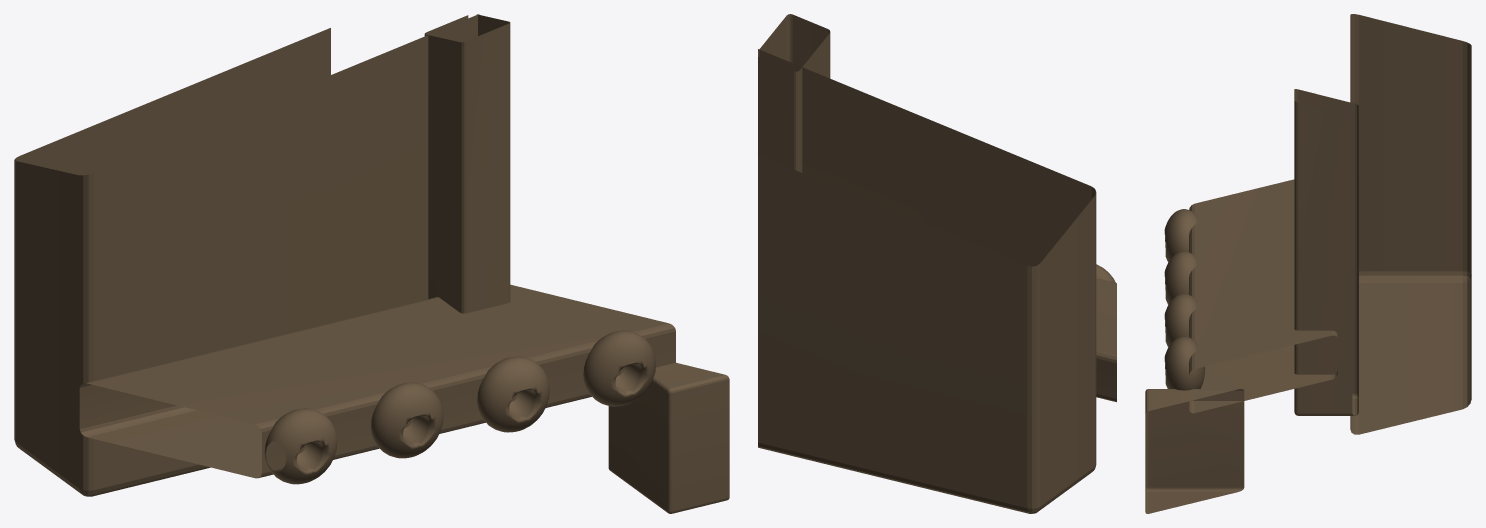
Rendered from temple05.glb.
The picture shows the model from 3 angles, left to right: view 1: azimuth 30°, elevation 25°; view 2: azimuth 150°, elevation 25°; view 3: azimuth 270°, elevation 25°; orthographic projection. The views are drawn at different scales.
Visible parts, largest first — view 1: TEMPLE05_original_v5; view 2: TEMPLE05_original_v5; view 3: TEMPLE05_original_v5.
Boxes of the visible parts, bbox=[...] form: TEMPLE05_original_v5: bbox=[14, 14, 729, 513]; TEMPLE05_original_v5: bbox=[758, 14, 1116, 513]; TEMPLE05_original_v5: bbox=[1145, 14, 1471, 513].
Size of the model in its own units: 3.1 by 2.47 by 2.01.
